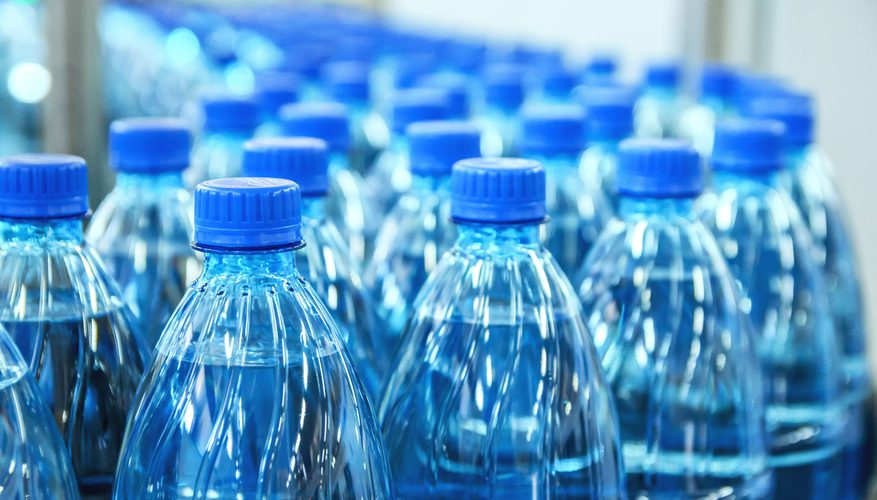plastic_bottle: (110, 178, 393, 500), (390, 156, 621, 500), (603, 137, 790, 500)
